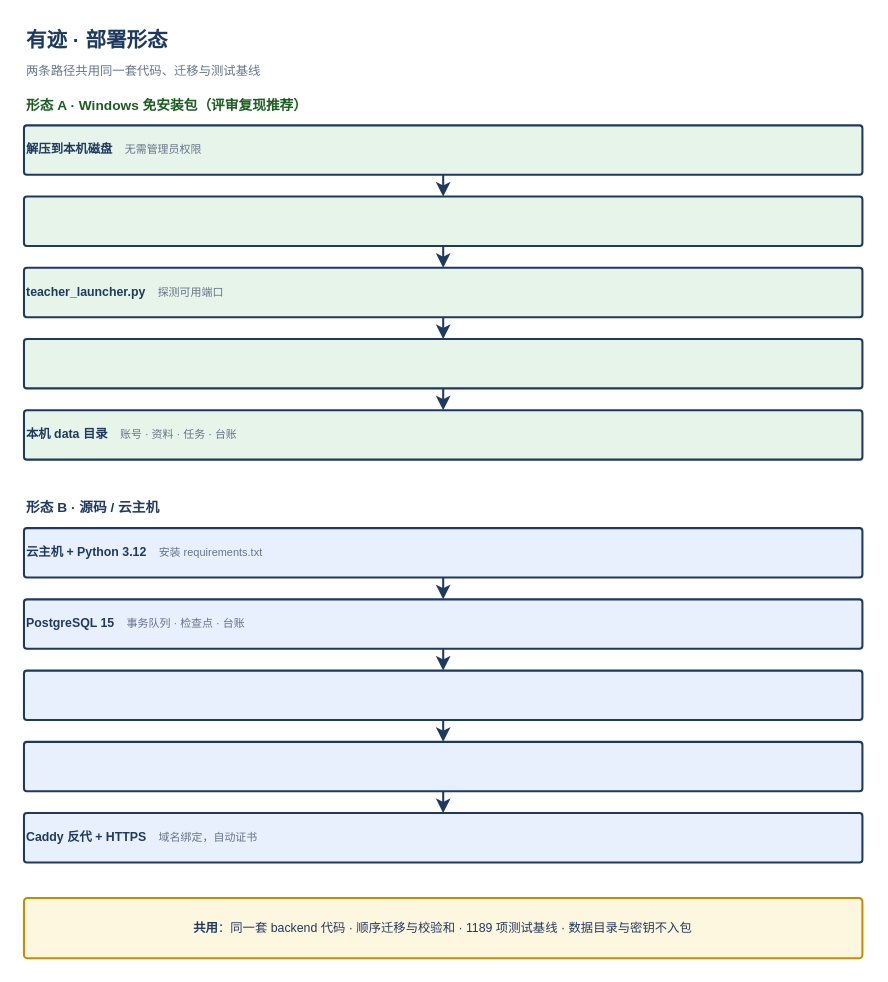
The diagram is 888 pixels wide and 982 high, and some of its shapes have lost their labels. Here are the shapes that lost their labels. From the top down, the centre of each, then its label:
At [442,220]: "一键启动.cmd 调用内置 python\python.exe".
At [442,363]: "浏览器自动打开 127.0.0.1:8765".
At [442,694]: "production.env DATABASE_URL · PUBLIC_ORIGIN · 邀请码".
At [442,766]: "systemd 双服务 youji-api / youji-worker".
